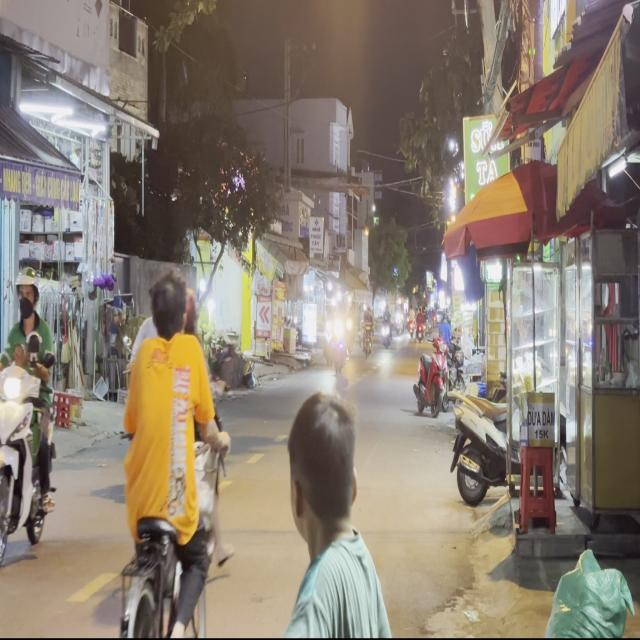helmet: (15, 272, 39, 320)
licenseplate: (0, 270, 58, 570)
